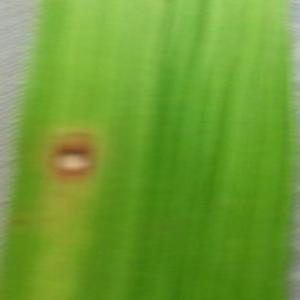Rice_Blast: (35, 120, 112, 199)
